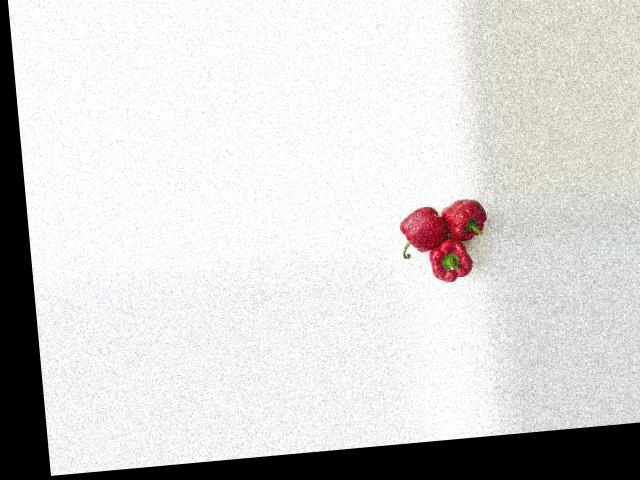bell_pepper: (387, 203, 445, 262)
